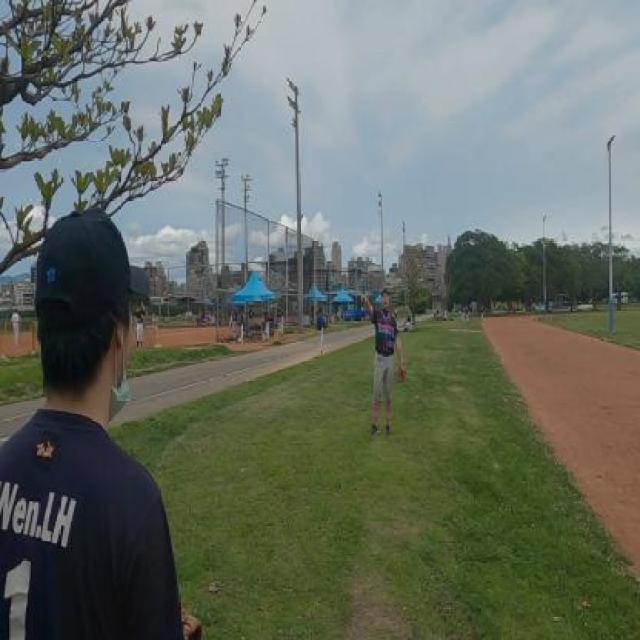baseball: (352, 262, 357, 270)
